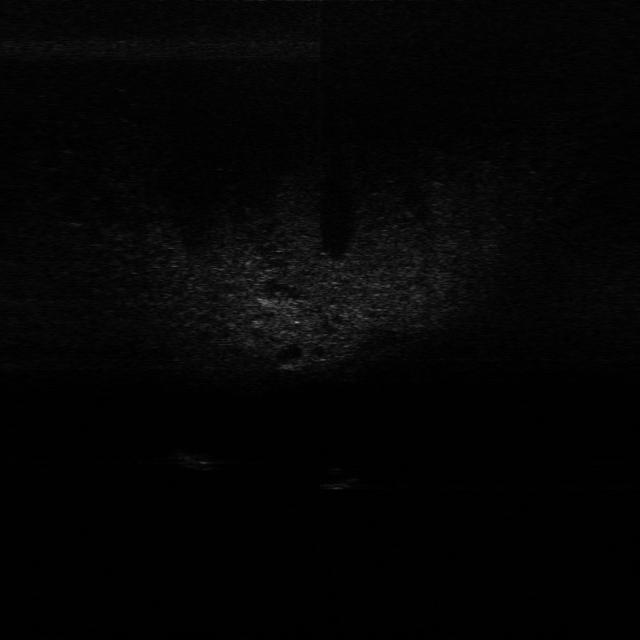ball: (317, 463, 359, 492)
circle cage: (172, 446, 237, 480)
